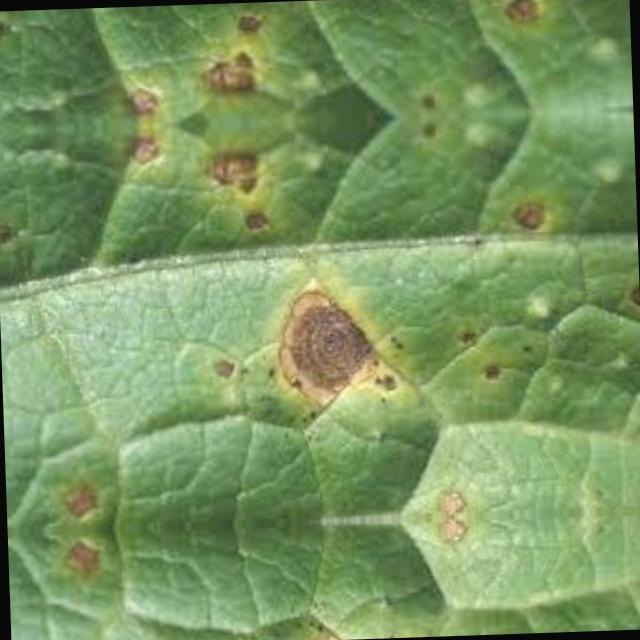Lettuce - Anthracnose: (0, 108, 640, 531), (8, 509, 640, 640), (0, 0, 627, 129)
